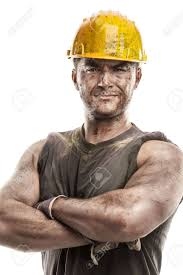Person_wearing_helmet: (65, 5, 150, 81)
